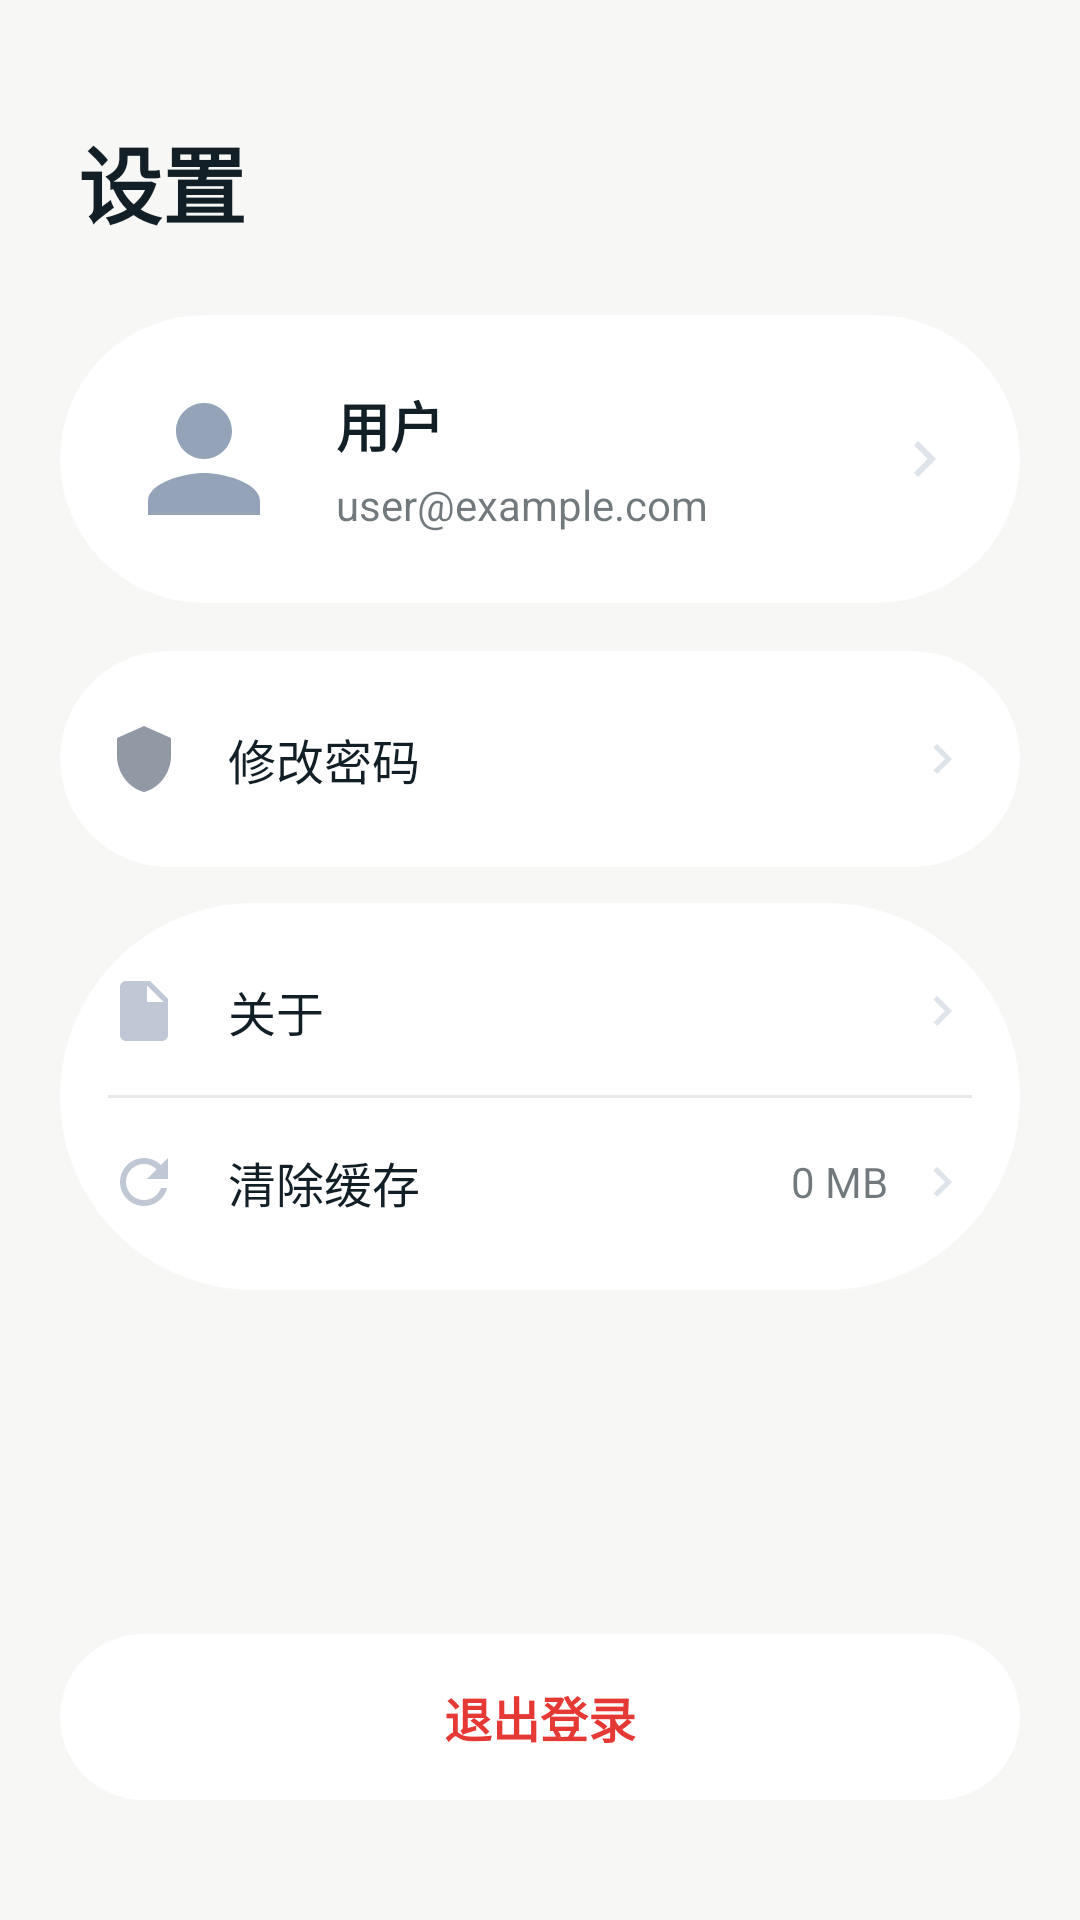

Icon bounding boxes for this 1080w x 1920h phone screenshot, format (x1, y1, x2, y2):
arrow right: (914, 442, 935, 476), (934, 745, 951, 773), (934, 997, 951, 1025), (934, 1168, 951, 1196)
document: (120, 981, 168, 1041)
refresh: (120, 1158, 168, 1206)
shield: (117, 726, 171, 792)
